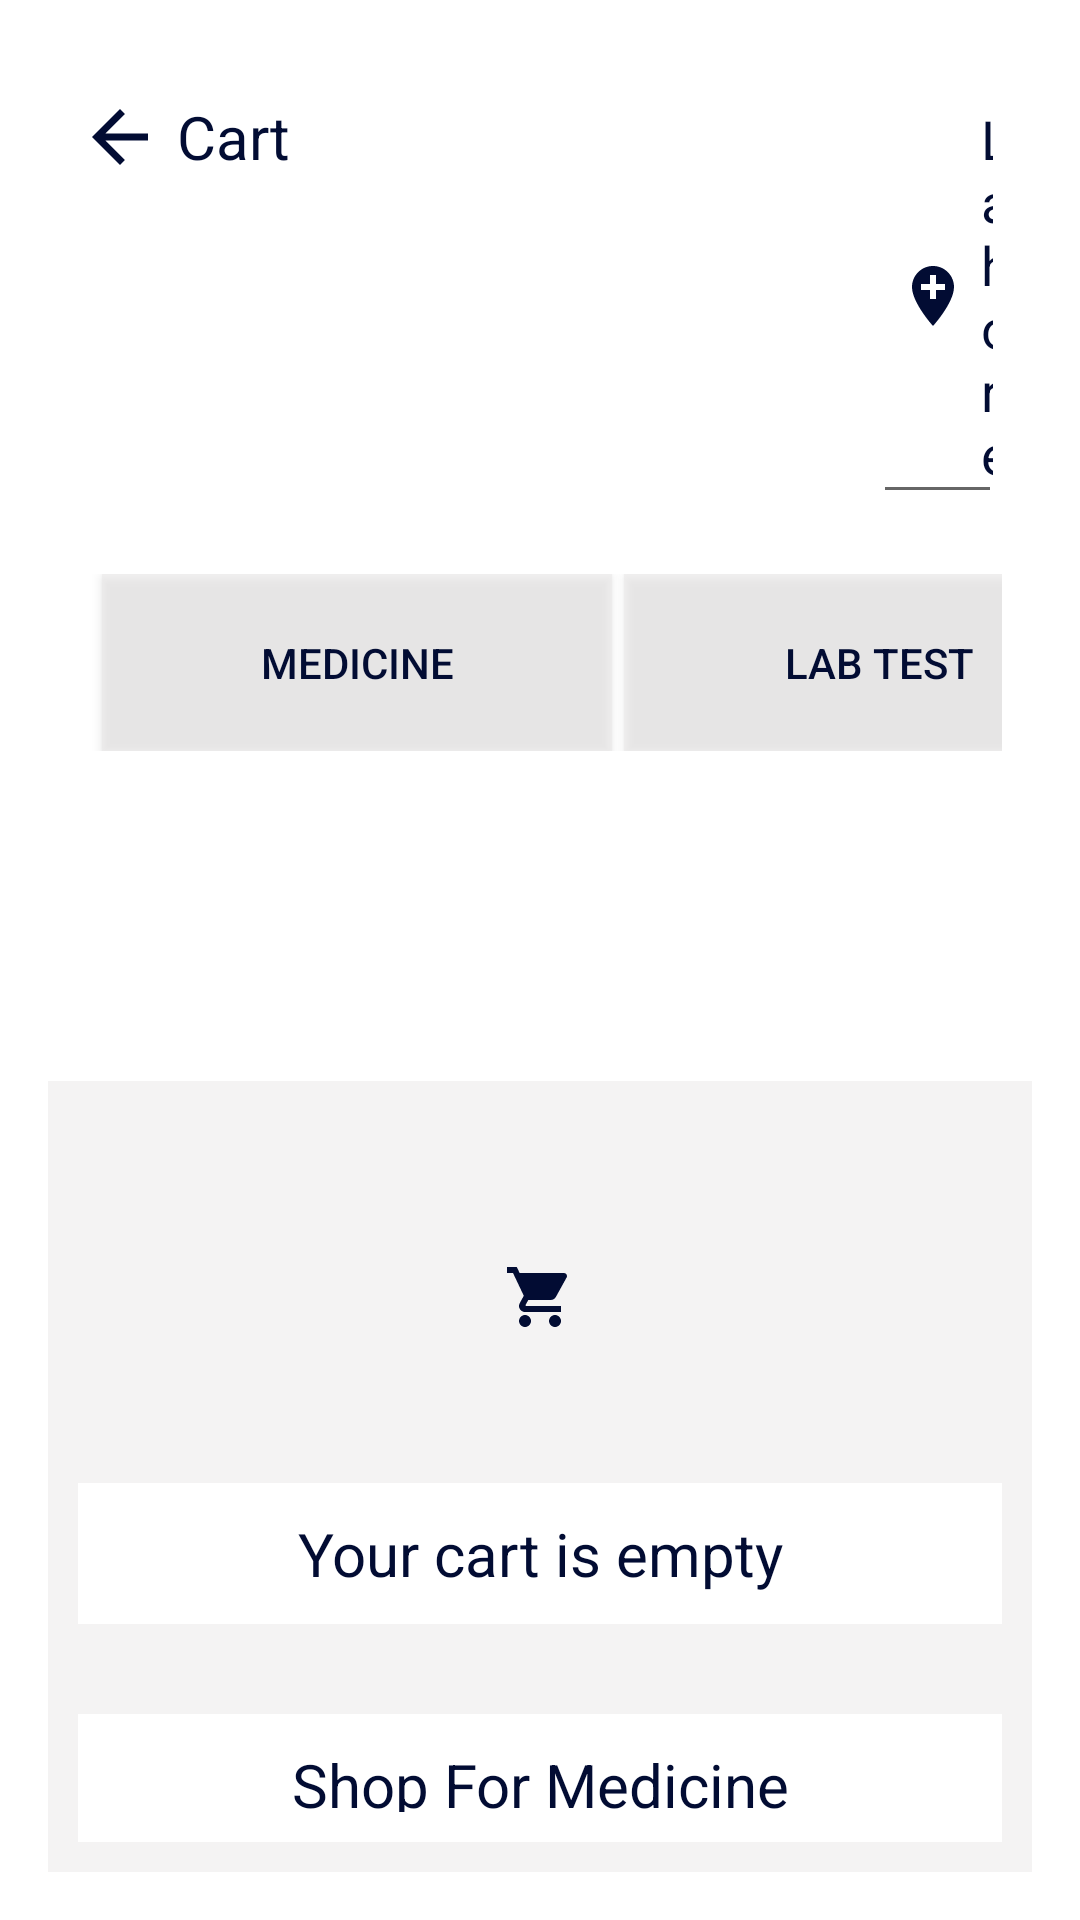

Icon bounding boxes for this 1080*1920 phone screenshot, format bbox=(x1, y1, x2, y2):
shopping cart: bbox=(507, 1267, 567, 1327)
